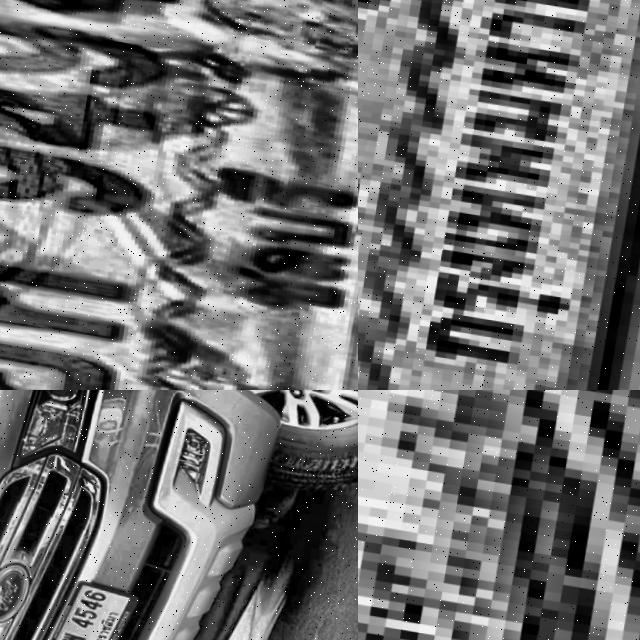license-plate: (0, 0, 358, 390), (358, 0, 640, 390), (358, 390, 640, 640), (40, 569, 150, 640)
